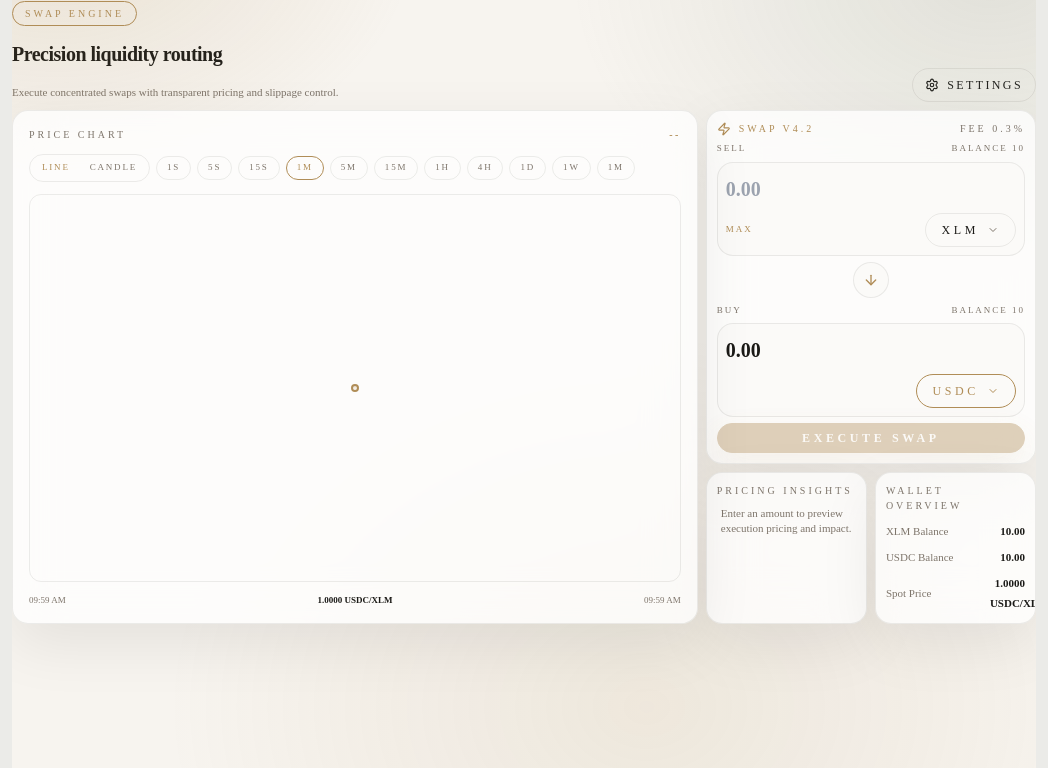
it: SwapView › maps transfer-related InvalidAction to insufficient liquidity (not slippage)
Type "10" into the number field with placeholder "0.00". click: {"x": 871, "y": 188}
box: 726,170 -> 1016,206
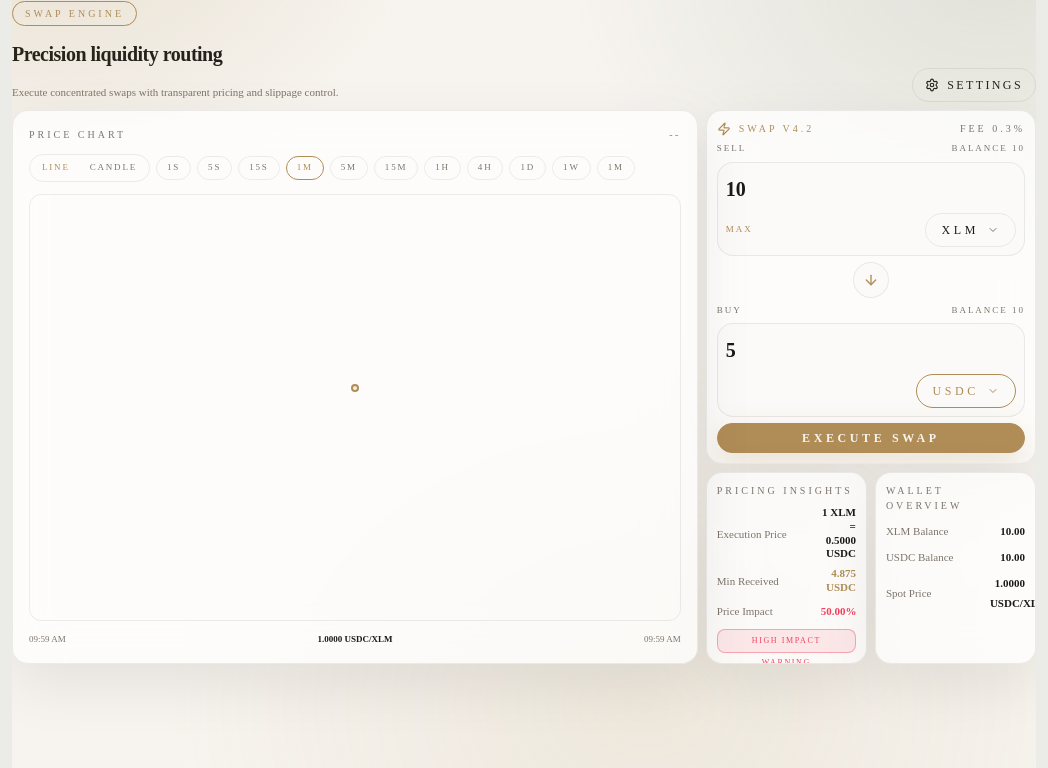
Now the text "Min Received" is shown, box 717,575 -> 779,587
Click the button "Execute Swap". click: {"x": 871, "y": 438}
box: 717,423 -> 1025,453
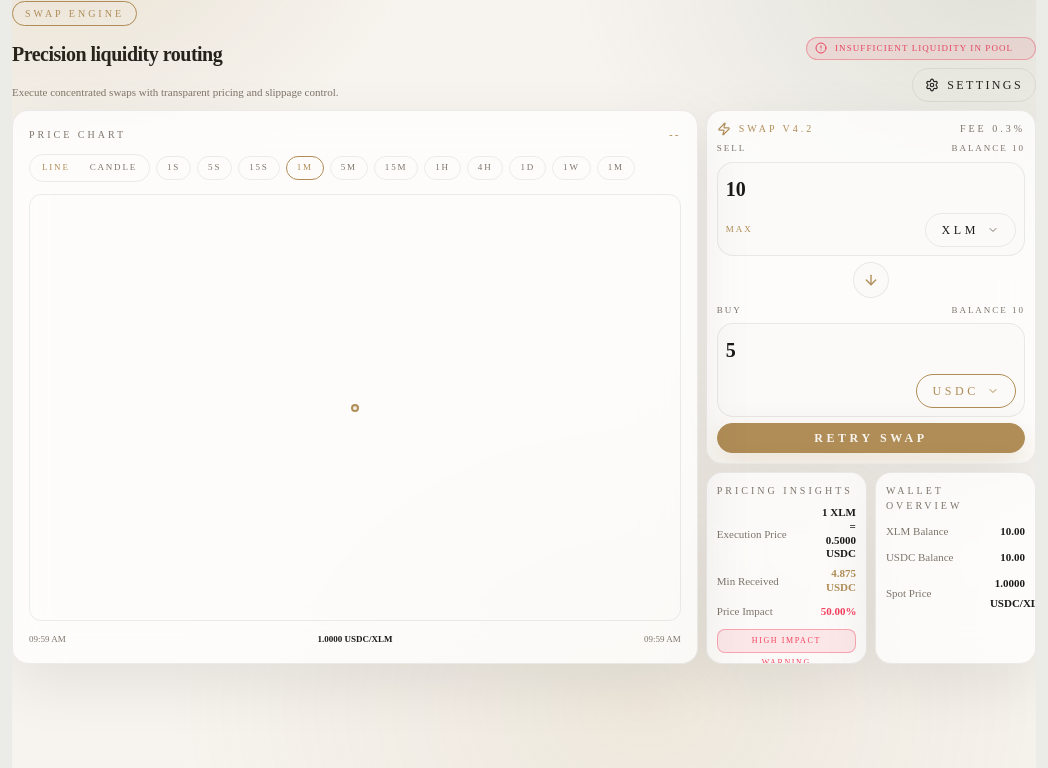
Now the text "Insufficient liquidity in pool" is shown, box 835,42 -> 1013,55
